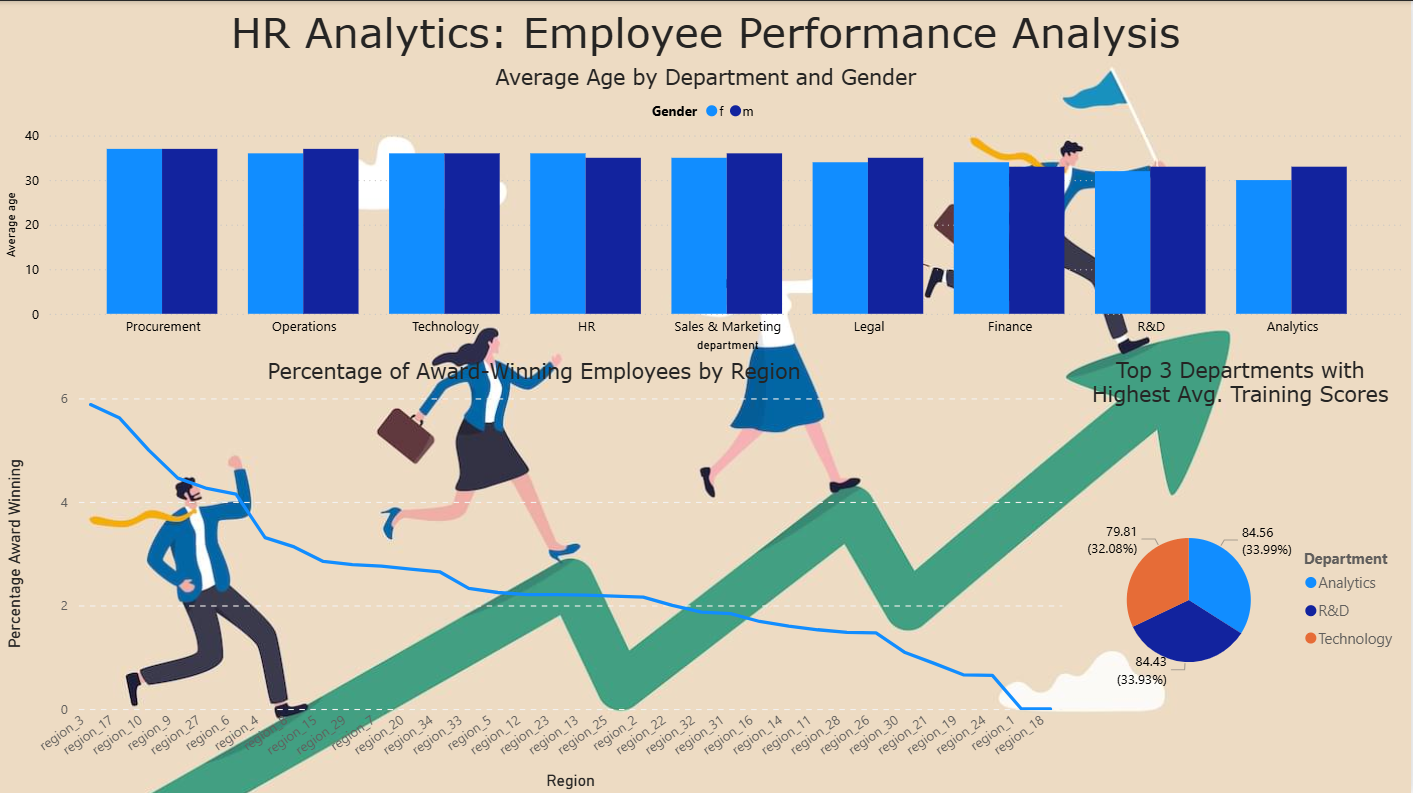

What the dashboard file says about the page in this screenshot:
{"tool":"powerbi","page":{"name":"Page 1","canvas":[1280,720],"ordinal":0},"visuals":[{"type":"clusteredColumnChart","title":"Average Age by Department and Gender","fields":{"Y":["Sum(1.average_age)"],"Category":["1.department"],"Series":["1.gender"]},"box":[0,57.6,1280.6,266],"z":0},{"type":"textbox","box":[0,0,1280.6,57.6],"z":1000},{"type":"pieChart","title":"Top 3 Departments with Highest Avg. Training Scores","fields":{"Category":["2.department"],"Y":["Sum(2.average_training_score)"]},"box":[969.3,323.6,311.2,396.2],"z":2000},{"type":"lineChart","title":"Percentage of Award-Winning Employees by Region","fields":{"Category":["3.region"],"Y":["Sum(3.percentage_award_winning)"]},"box":[0,324,969,396],"z":3000}]}

Visuals, with their boxes in screenshot pixels (x1, y1, x2, y2), scaled from the page's 1280x720 canvas onto the 1413x793 screenshot:
"Average Age by Department and Gender" clusteredColumnChart: [left=0, top=63, right=1412, bottom=356]
textbox: [left=0, top=0, right=1412, bottom=63]
"Top 3 Departments with Highest Avg. Training Scores" pieChart: [left=1070, top=356, right=1412, bottom=792]
"Percentage of Award-Winning Employees by Region" lineChart: [left=0, top=357, right=1070, bottom=792]
